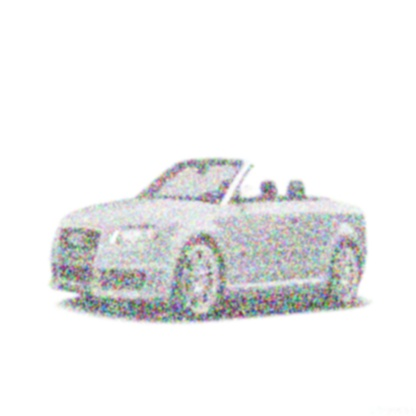Vehicle: (50, 156, 370, 323)
